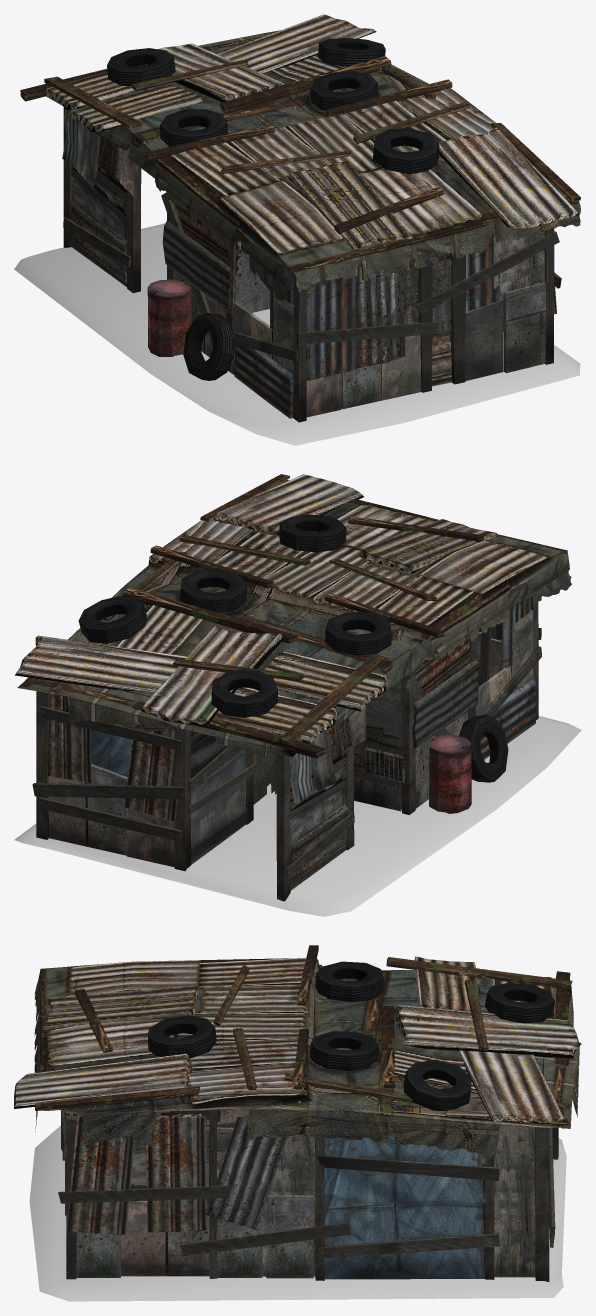
Rendered from ShantyShack_01_v2.fbx.
3 renders of one model, top to bottom at view 1: azimuth 30°, elevation 25°; view 2: azimuth 150°, elevation 25°; view 3: azimuth 270°, elevation 25°, orthographic.
Visible parts, largest first — view 1: Roof, Walls, Floor, barel, tire; view 2: Roof, Walls, Floor, barel, tire, door; view 3: Roof, Walls, Floor.
Part boxes in pixels (x1=…): Roof: x1=20, y1=14, x2=580, y2=301; Walls: x1=62, y1=47, x2=561, y2=422; Floor: x1=14, y1=223, x2=580, y2=445; barel: x1=147, y1=279, x2=191, y2=356; tire: x1=183, y1=313, x2=235, y2=380; Roof: x1=15, y1=474, x2=571, y2=758; Walls: x1=32, y1=595, x2=541, y2=901; Floor: x1=14, y1=716, x2=581, y2=916; barel: x1=429, y1=735, x2=471, y2=813; tire: x1=459, y1=714, x2=508, y2=782; door: x1=253, y1=752, x2=276, y2=804; Roof: x1=14, y1=945, x2=581, y2=1158; Walls: x1=58, y1=1056, x2=558, y2=1281; Floor: x1=29, y1=1125, x2=566, y2=1301.
Bounding box in the file's own units: 466 × 275 × 658.
